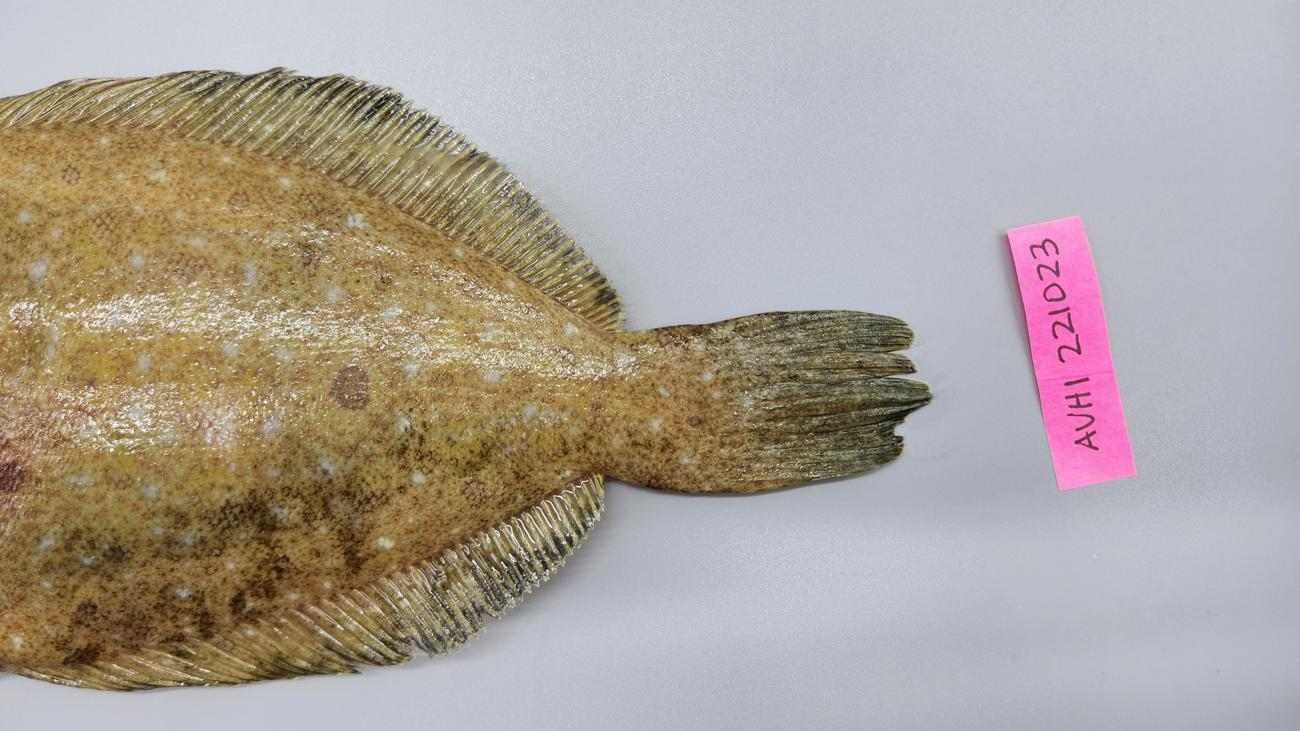VIDYH: (0, 381, 103, 523), (175, 382, 273, 476)
VIFCH: (749, 355, 928, 427)
